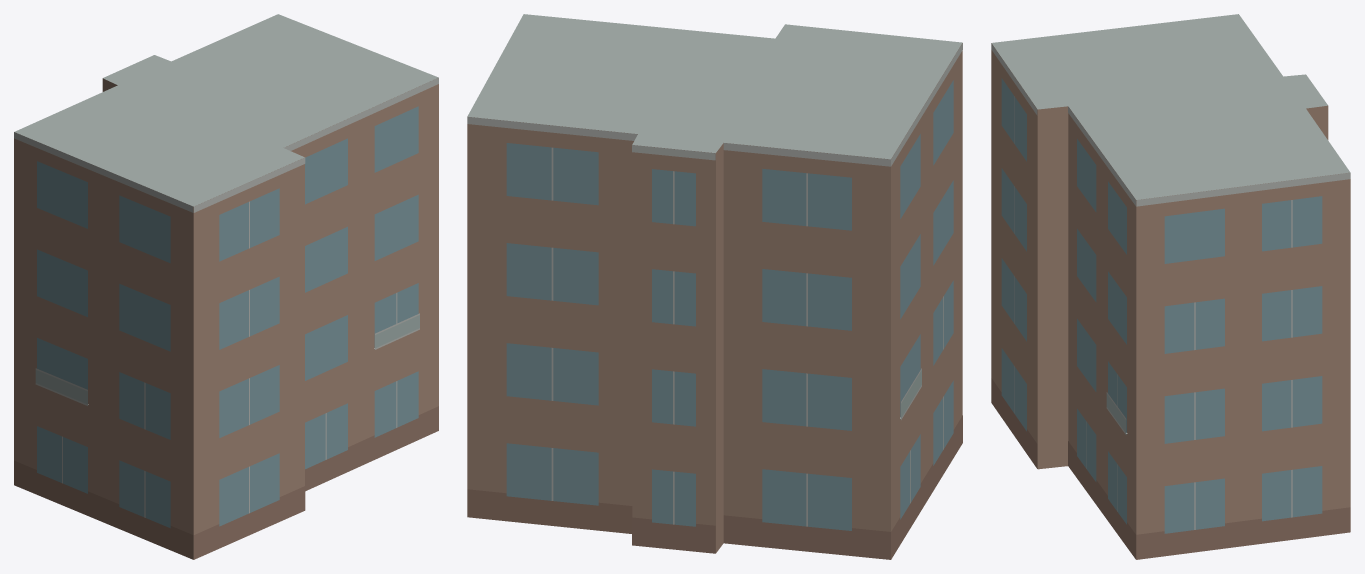
File: survey-upis-32728036.glb
3 views of the same model, side by side, from view 1: azimuth 30°, elevation 25°; view 2: azimuth 150°, elevation 25°; view 3: azimuth 270°, elevation 25° (orthographic). The views are drawn at different scales.
Visible parts, largest first — view 1: survey-upis-32728036.tmp; view 2: survey-upis-32728036.tmp; view 3: survey-upis-32728036.tmp.
Part boxes in pixels (x1=…): survey-upis-32728036.tmp: x1=14, y1=14, x2=438, y2=559; survey-upis-32728036.tmp: x1=467, y1=14, x2=962, y2=559; survey-upis-32728036.tmp: x1=991, y1=14, x2=1350, y2=559.
Bounding box in the file's own units: 14.8 × 13.34 × 12.08.
